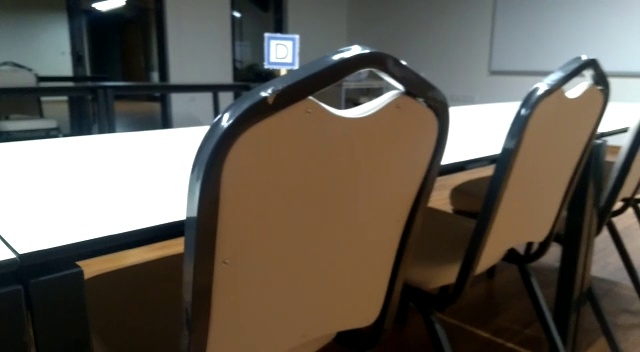durak: (265, 34, 303, 68)
